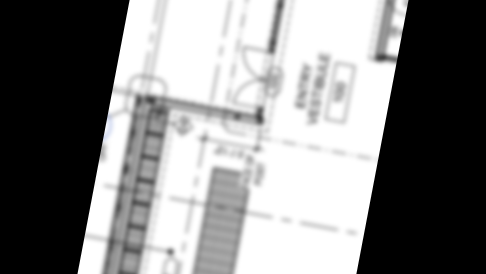double door: (230, 46, 273, 111)
